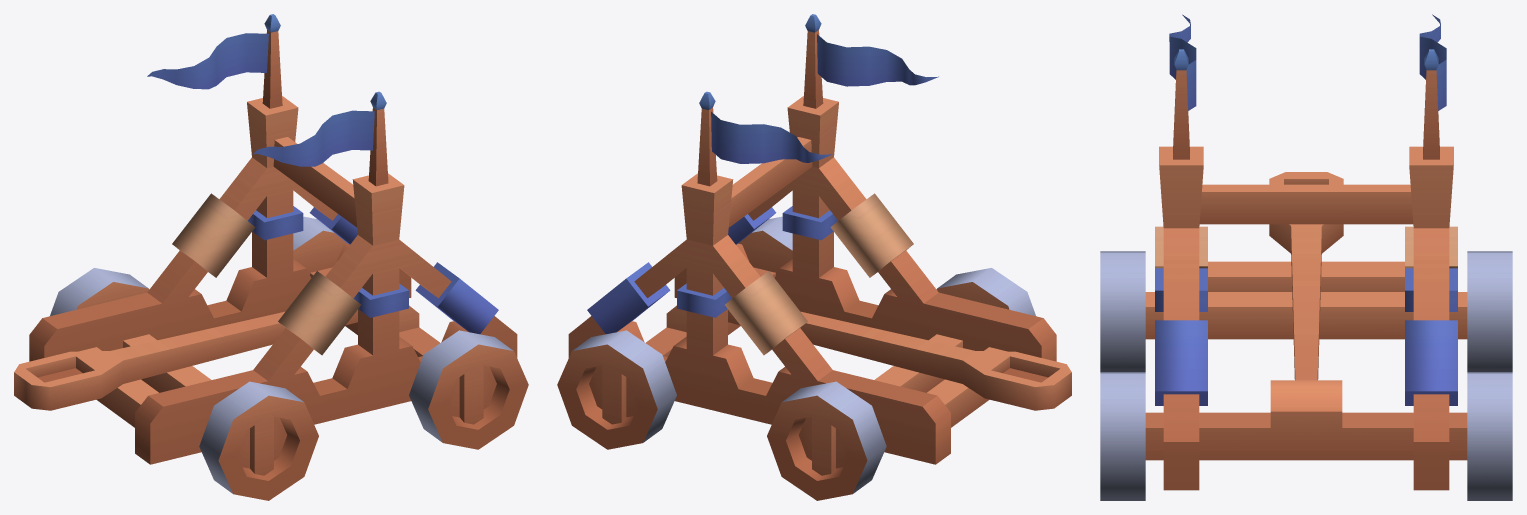
The model's file is kenney-castle-kit--siege_catapult.glb.
3 views of the same model, side by side, from view 1: azimuth 30°, elevation 25°; view 2: azimuth 150°, elevation 25°; view 3: azimuth 270°, elevation 25° (orthographic). The views are drawn at different scales.
Parts seen in each view (by area): view 1: siege-catapult, wheel (×4), catapult; view 2: siege-catapult, wheel (×4), catapult; view 3: siege-catapult, wheel (×4), catapult.
Boxes of the visible parts, box(x1,y1,x2,y2) form: siege-catapult: box(29, 14, 517, 464); wheel (×4): box(50, 216, 528, 500); catapult: box(14, 309, 357, 410); siege-catapult: box(568, 14, 1056, 464); wheel (×4): box(557, 216, 1035, 500); catapult: box(728, 309, 1071, 410); siege-catapult: box(1145, 14, 1467, 490); wheel (×4): box(1100, 251, 1512, 500); catapult: box(1269, 172, 1343, 380).
Bounding box in the file's own units: 1.73 × 1.33 × 1.21.
Materials: 1 (1 with a texture image).
